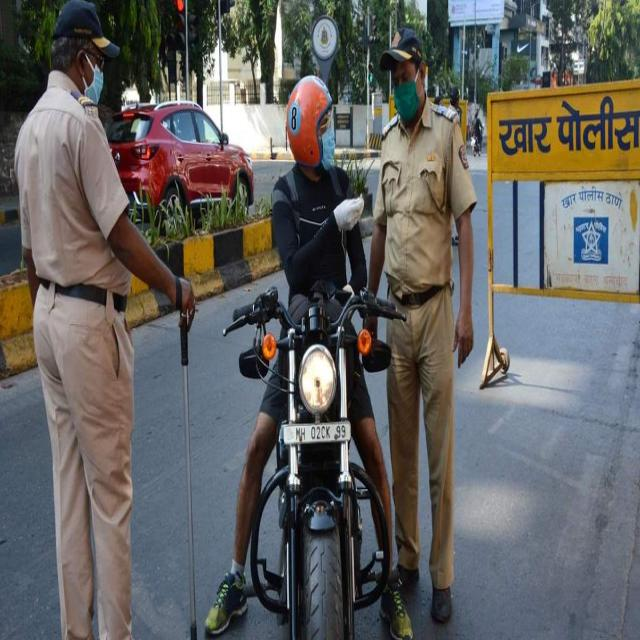motorcycle: (224, 255, 407, 640)
